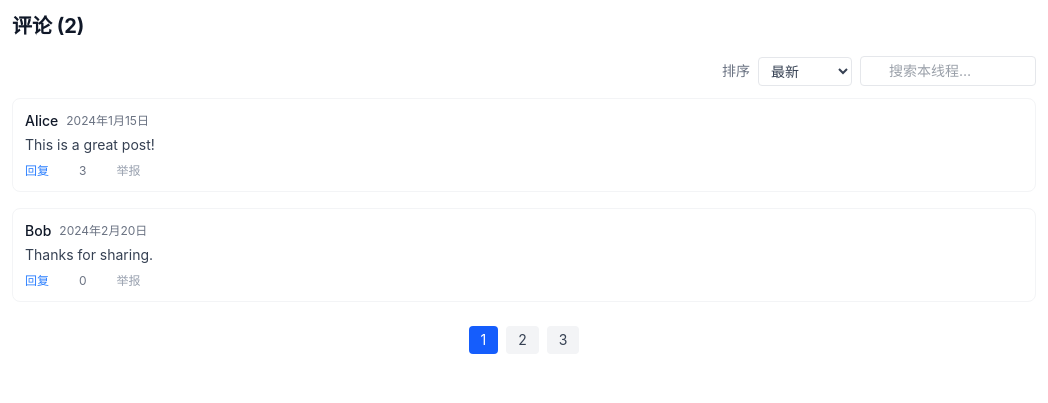
CommentList › Comment likes (DEC-092, TASK-158) › shows a friendly error when liking fails
Click the button with class "comment-like" below "This is a great post!" at (74, 171), box 61,163 -> 86,179
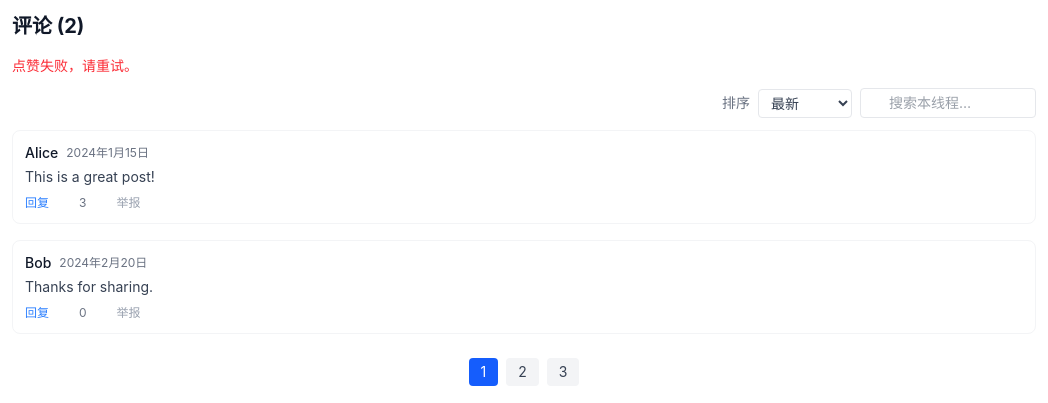
Now the text "点赞失败" is shown, box 12,57 -> 138,74
